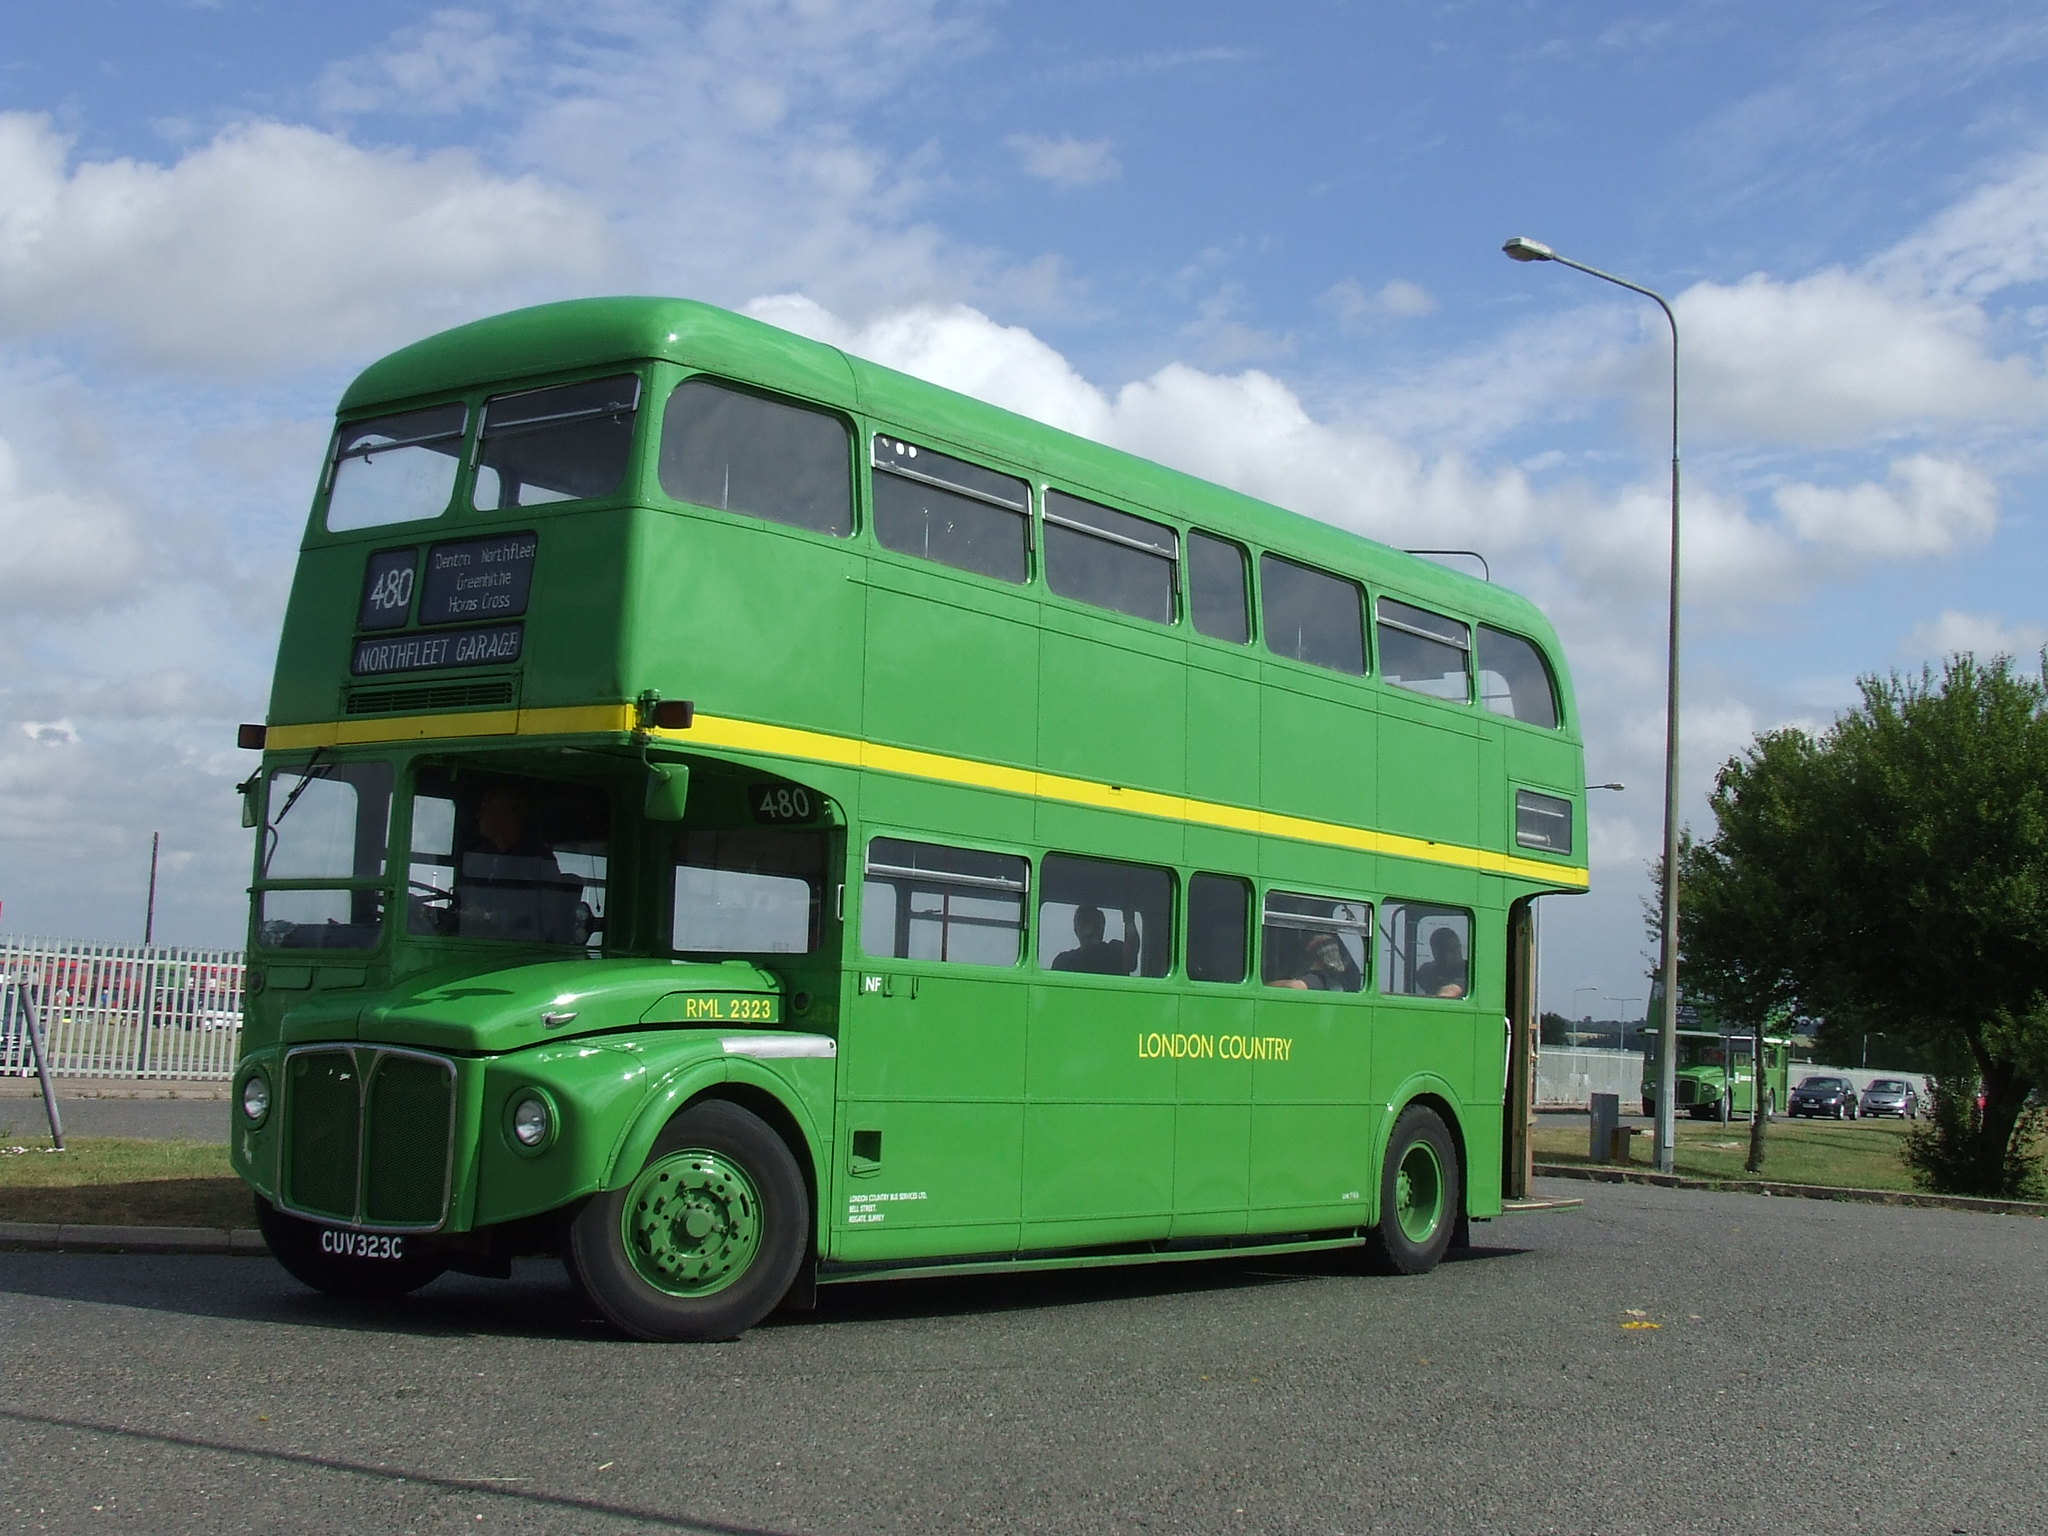bus: (235, 298, 1609, 1347)
